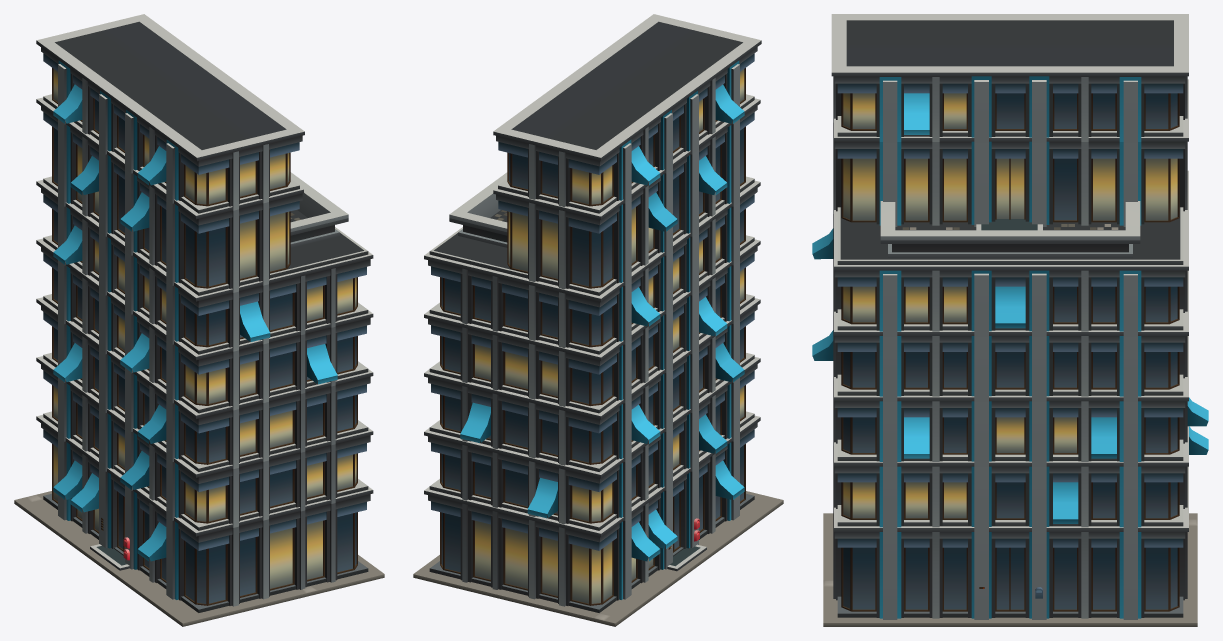
Rendered from Building_21B.fbx.
3 views of the same model, side by side, from view 1: azimuth 30°, elevation 25°; view 2: azimuth 150°, elevation 25°; view 3: azimuth 270°, elevation 25° (orthographic). The views are drawn at different scales.
Visible parts, largest first — view 1: Building_21B, Window_Lights_21B, Canopy_21B; view 2: Building_21B, Window_Lights_21B, Canopy_21B; view 3: Building_21B, Window_Lights_21B, Canopy_21B.
Boxes of the visible parts, bbox=[...] form: Building_21B: bbox=[14, 14, 384, 626]; Window_Lights_21B: bbox=[53, 69, 356, 588]; Canopy_21B: bbox=[53, 84, 337, 561]; Building_21B: bbox=[413, 14, 783, 626]; Window_Lights_21B: bbox=[475, 69, 744, 603]; Canopy_21B: bbox=[460, 84, 744, 561]; Building_21B: bbox=[823, 14, 1197, 626]; Window_Lights_21B: bbox=[843, 93, 1177, 518]; Canopy_21B: bbox=[812, 93, 1208, 523].
Bounding box in the file's own units: 1875 × 3930 × 2749.
